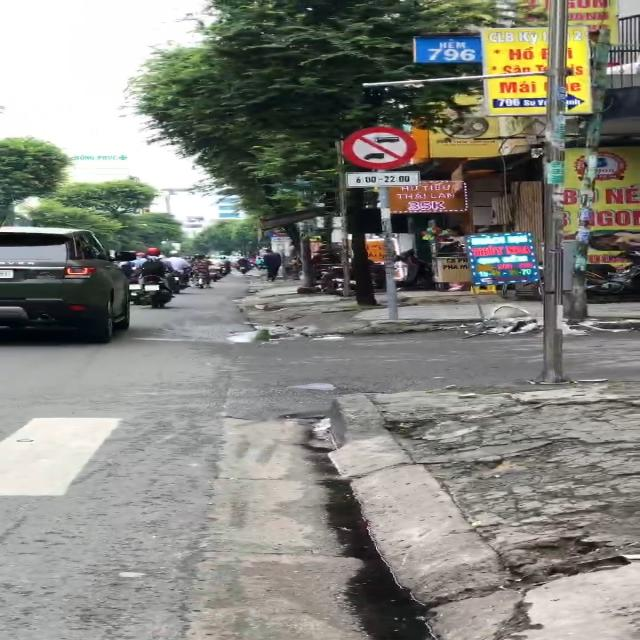Bien bao cam xe oto khach va xe oto tai: (336, 121, 422, 171)
